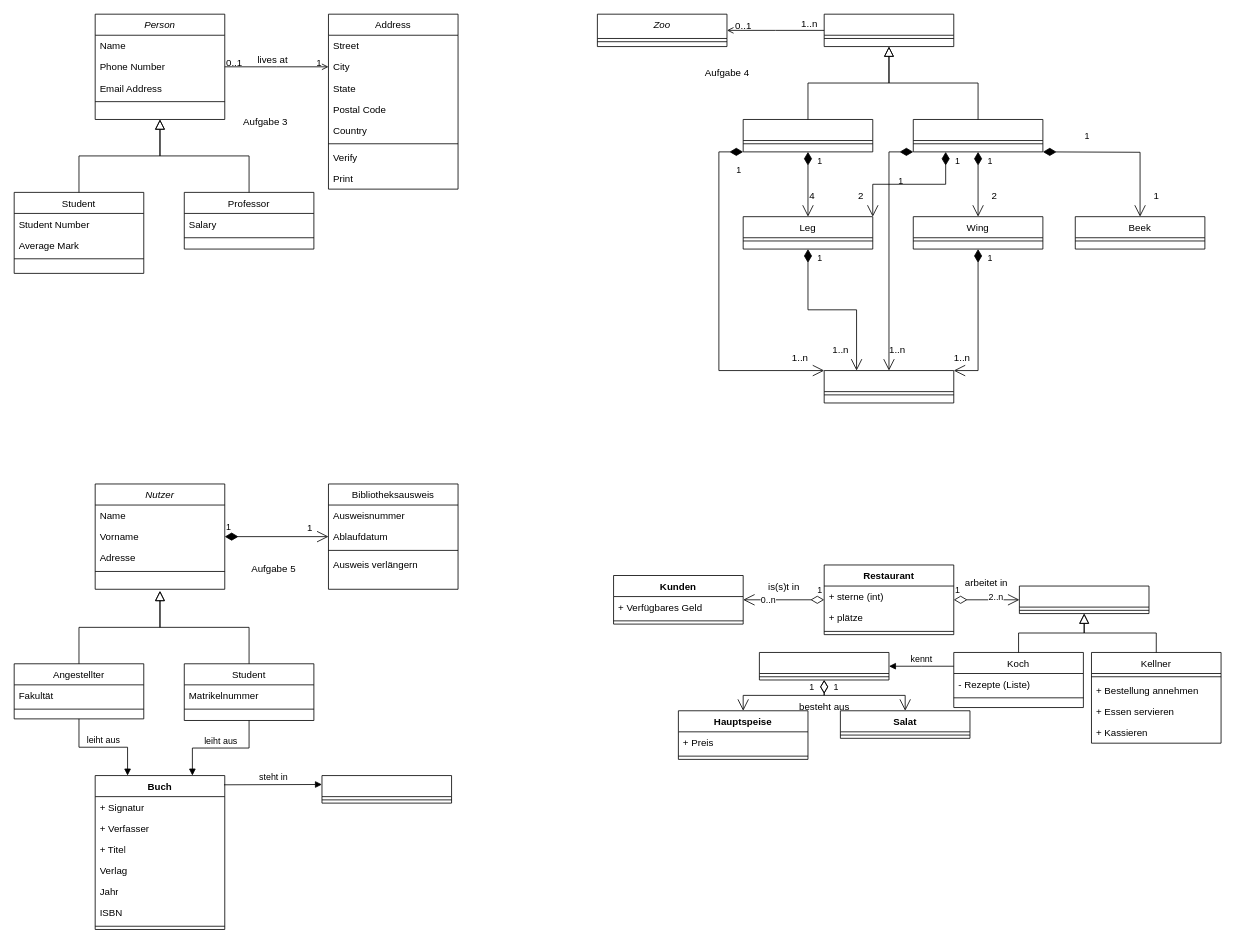
Image size: 1235x944. Some labels were removed from this diagram. Here are the shapes that lost their labels. From the top down, the centre of each, then its label:
At (x=888, y=30): "Animal".
At (x=807, y=135): "Mammal".
At (x=977, y=135): "Bird".
At (x=888, y=386): "Muscle".
At (x=1084, y=599): "Mitarbeiter".
At (x=824, y=666): "Menü".
At (x=386, y=789): "Regal".
